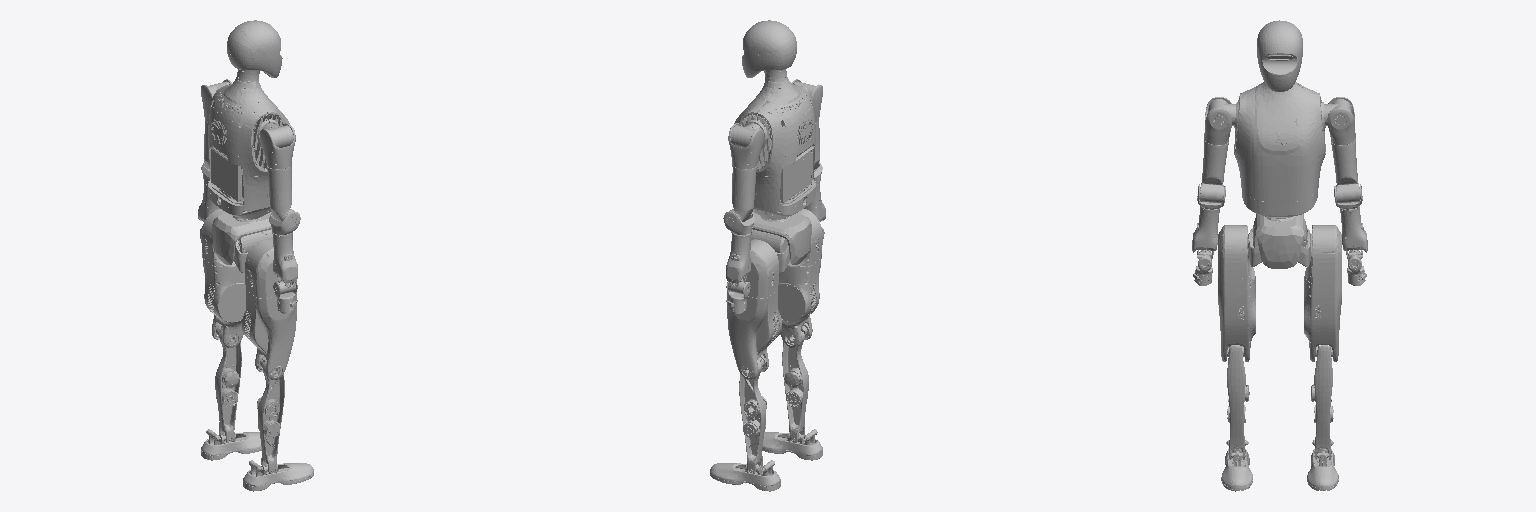
--- Render facts (derived) ---
Views: 3 orthographic renders of the robot side by side, from view 1: azimuth 30°, elevation 25°; view 2: azimuth 150°, elevation 25°; view 3: azimuth 270°, elevation 25°.
Robot: tiangong2pro_urdf — 37 links, 36 joints (30 revolute, 6 fixed); root link pelvis; default pose: every joint at zero.
Links seen in each view (by area): view 1: body_yaw_link, hip_yaw_r_link, hip_yaw_l_link, head_roll_link, pelvis, knee_pitch_r_link, knee_pitch_l_link, hip_pitch_r_link, ankle_roll_r_link, ankle_roll_l_link, shoulder_yaw_r_link, elbow_yaw_r_link (+2 smaller); view 2: body_yaw_link, hip_yaw_l_link, hip_yaw_r_link, head_roll_link, pelvis, knee_pitch_r_link, knee_pitch_l_link, hip_pitch_l_link, ankle_roll_l_link, ankle_roll_r_link, shoulder_yaw_l_link, elbow_yaw_l_link (+2 smaller); view 3: body_yaw_link, head_roll_link, hip_yaw_r_link, hip_yaw_l_link, pelvis, knee_pitch_l_link, knee_pitch_r_link, hip_pitch_l_link, hip_pitch_r_link, shoulder_yaw_l_link, shoulder_yaw_r_link, ankle_roll_r_link (+5 smaller).
Boxes of the visible links, box(x1,y1,x2,y2) form: body_yaw_link: box(208, 78, 291, 219); hip_yaw_r_link: box(242, 290, 296, 379); hip_yaw_l_link: box(203, 259, 245, 347); head_roll_link: box(227, 20, 282, 77); pelvis: box(212, 212, 272, 264); knee_pitch_r_link: box(257, 358, 284, 473); knee_pitch_l_link: box(215, 326, 241, 442); hip_pitch_r_link: box(245, 240, 296, 298); ankle_roll_r_link: box(243, 460, 313, 491); ankle_roll_l_link: box(201, 429, 261, 460); shoulder_yaw_r_link: box(267, 166, 293, 221); elbow_yaw_r_link: box(272, 232, 297, 287); body_yaw_link: box(732, 79, 815, 219); hip_yaw_l_link: box(727, 290, 781, 379); hip_yaw_r_link: box(778, 258, 821, 347); head_roll_link: box(742, 20, 796, 77); pelvis: box(751, 212, 811, 264); knee_pitch_r_link: box(782, 326, 808, 442); knee_pitch_l_link: box(739, 358, 766, 473); hip_pitch_l_link: box(743, 239, 778, 298); ankle_roll_l_link: box(710, 460, 780, 491); ankle_roll_r_link: box(762, 429, 822, 460); shoulder_yaw_l_link: box(730, 166, 756, 221); elbow_yaw_l_link: box(726, 232, 751, 287); body_yaw_link: box(1234, 82, 1325, 218); head_roll_link: box(1257, 20, 1302, 91); hip_yaw_r_link: box(1218, 271, 1255, 361); hip_yaw_l_link: box(1304, 271, 1341, 361); pelvis: box(1253, 214, 1306, 268); knee_pitch_l_link: box(1311, 345, 1333, 459); knee_pitch_r_link: box(1227, 345, 1249, 459); hip_pitch_l_link: box(1306, 225, 1341, 283); hip_pitch_r_link: box(1218, 225, 1253, 283); shoulder_yaw_l_link: box(1331, 139, 1360, 202); shoulder_yaw_r_link: box(1199, 140, 1228, 202); ankle_roll_r_link: box(1221, 440, 1252, 491).
Size in the robot's own frame: 0.3025 by 0.6138 by 1.73 metres.
Meshes: 37 distinct files referenced, 37 mesh visuals loaded (37 binary STL).

robot.urdf — tiangong2pro_urdf:
<?xml version='1.0' encoding='utf-8'?>
<robot name="tiangong2pro_urdf">
  <link name="pelvis">
    <inertial>
      <origin xyz="-0.000979 0.00068 -0.076922" rpy="0 0 0" />
      <mass value="5.639" />
      <inertia ixx="0.018304" ixy="-0.004328" ixz="6.1e-05" iyy="0.023292" iyz="6e-05" izz="0.024244" />
    </inertial>
    <visual>
      <origin xyz="0 0 0" rpy="0 0 0" />
      <geometry>
        <mesh filename="package://tiangong2pro_urdf/meshes/pelvis.STL" />
      </geometry>
      <material name="">
        <color rgba="0.752941176470588 0.752941176470588 0.752941176470588 1" />
      </material>
    </visual>
    <collision>
      <origin xyz="0 0 0" rpy="0 0 0" />
      <geometry>
        <mesh filename="package://tiangong2pro_urdf/meshes/pelvis.STL" />
      </geometry>
    </collision>
  </link>
  <link name="hip_roll_l_link">
    <inertial>
      <origin xyz="-0.001848 0.055849 -0.036017" rpy="0 0 0" />
      <mass value="0.672983" />
      <inertia ixx="0.00102" ixy="-7e-05" ixz="3.8e-05" iyy="0.003221" iyz="0.000281" izz="0.003272" />
    </inertial>
    <visual>
      <origin xyz="0 0 0" rpy="0 0 0" />
      <geometry>
        <mesh filename="package://tiangong2pro_urdf/meshes/hip_roll_l_link.STL" />
      </geometry>
      <material name="">
        <color rgba="0.752941176470588 0.752941176470588 0.752941176470588 1" />
      </material>
    </visual>
    <collision>
      <origin xyz="0 0 0" rpy="0 0 0" />
      <geometry>
        <mesh filename="package://tiangong2pro_urdf/meshes/hip_roll_l_link.STL" />
      </geometry>
    </collision>
  </link>
  <joint name="hip_roll_l_joint" type="revolute">
    <origin xyz="0 0.028 -0.0857" rpy="0 0 0" />
    <parent link="pelvis" />
    <child link="hip_roll_l_link" />
    <axis xyz="1 0 0" />
    <limit lower="-0.7853981633974483" upper="0.7853981633974483" effort="235.0" velocity="16.755160819145562" />
  </joint>
  <link name="hip_pitch_l_link">
    <inertial>
      <origin xyz="0.001081 -8.8e-05 -0.013133" rpy="0 0 0" />
      <mass value="3.951912" />
      <inertia ixx="0.010841" ixy="-2.7e-05" ixz="0.000234" iyy="0.015597" iyz="0.000123" izz="0.00934" />
    </inertial>
    <visual>
      <origin xyz="0 0 0" rpy="0 0 0" />
      <geometry>
        <mesh filename="package://tiangong2pro_urdf/meshes/hip_pitch_l_link.STL" />
      </geometry>
      <material name="">
        <color rgba="0.752941176470588 0.752941176470588 0.752941176470588 1" />
      </material>
    </visual>
    <collision>
      <origin xyz="0 0 0" rpy="0 0 0" />
      <geometry>
        <mesh filename="package://tiangong2pro_urdf/meshes/hip_pitch_l_link.STL" />
      </geometry>
    </collision>
  </link>
  <joint name="hip_pitch_l_joint" type="revolute">
    <origin xyz="0 0.122 -0.046" rpy="0 0 0" />
    <parent link="hip_roll_l_link" />
    <child link="hip_pitch_l_link" />
    <axis xyz="0 1 0" />
    <limit lower="-2.792526803190927" upper="2.0943951023931953" effort="330.0" velocity="15.707963267948966" />
  </joint>
  <link name="hip_yaw_l_link">
    <inertial>
      <origin xyz="0.004102 -0.006542 -0.121068" rpy="0 0 0" />
      <mass value="6.670795" />
      <inertia ixx="0.049573" ixy="-0.000228" ixz="-4.4e-05" iyy="0.053307" iyz="-0.001401" izz="0.017924" />
    </inertial>
    <visual>
      <origin xyz="0 0 0" rpy="0 0 0" />
      <geometry>
        <mesh filename="package://tiangong2pro_urdf/meshes/hip_yaw_l_link.STL" />
      </geometry>
      <material name="">
        <color rgba="0.752941176470588 0.752941176470588 0.752941176470588 1" />
      </material>
    </visual>
    <collision>
      <origin xyz="0 0 0" rpy="0 0 0" />
      <geometry>
        <mesh filename="package://tiangong2pro_urdf/meshes/hip_yaw_l_link.STL" />
      </geometry>
    </collision>
  </link>
  <joint name="hip_yaw_l_joint" type="revolute">
    <origin xyz="0 -0.00015 -0.0987" rpy="0 0 0" />
    <parent link="hip_pitch_l_link" />
    <child link="hip_yaw_l_link" />
    <axis xyz="0 0 1" />
    <limit lower="-1.0471975511965976" upper="1.0471975511965976" effort="235.0" velocity="16.755160819145562" />
  </joint>
  <link name="knee_pitch_l_link">
    <inertial>
      <origin xyz="0.00018 0.001915 -0.178653" rpy="0 0 0" />
      <mass value="2.312685" />
      <inertia ixx="0.030244" ixy="-1e-05" ixz="-0.002398" iyy="0.03091" iyz="-0.000689" izz="0.002922" />
    </inertial>
    <visual>
      <origin xyz="0 0 0" rpy="0 0 0" />
      <geometry>
        <mesh filename="package://tiangong2pro_urdf/meshes/knee_pitch_l_link.STL" />
      </geometry>
      <material name="">
        <color rgba="0.752941176470588 0.752941176470588 0.752941176470588 1" />
      </material>
    </visual>
    <collision>
      <origin xyz="0 0 0" rpy="0 0 0" />
      <geometry>
        <mesh filename="package://tiangong2pro_urdf/meshes/knee_pitch_l_link.STL" />
      </geometry>
    </collision>
  </link>
  <joint name="knee_pitch_l_joint" type="revolute">
    <origin xyz="0 0.00010715 -0.3013" rpy="0 0 0" />
    <parent link="hip_yaw_l_link" />
    <child link="knee_pitch_l_link" />
    <axis xyz="0 1 0" />
    <limit lower="0.0" upper="2.3911010752322315" effort="330.0" velocity="15.707963267948966" />
  </joint>
  <link name="ankle_pitch_l_link">
    <inertial>
      <origin xyz="0.0 0.0 0.0" rpy="0 0 0" />
      <mass value="0.111609" />
      <inertia ixx="1.8e-05" ixy="0.0" ixz="0.0" iyy="1.8e-05" iyz="0.0" izz="3.2e-05" />
    </inertial>
    <visual>
      <origin xyz="0 0 0" rpy="0 0 0" />
      <geometry>
        <mesh filename="package://tiangong2pro_urdf/meshes/ankle_pitch_l_link.STL" />
      </geometry>
      <material name="">
        <color rgba="0.752941176470588 0.752941176470588 0.752941176470588 1" />
      </material>
    </visual>
    <collision>
      <origin xyz="0 0 0" rpy="0 0 0" />
      <geometry>
        <mesh filename="package://tiangong2pro_urdf/meshes/ankle_pitch_l_link.STL" />
      </geometry>
    </collision>
  </link>
  <joint name="ankle_pitch_l_joint" type="revolute">
    <origin xyz="0 0 -0.4" rpy="0 0 0" />
    <parent link="knee_pitch_l_link" />
    <child link="ankle_pitch_l_link" />
    <axis xyz="0 1 0" />
    <limit lower="-1.2217304763960306" upper="0.5235987755982988" effort="55.0" velocity="14.137166941154069" />
  </joint>
  <link name="ankle_roll_l_link">
    <inertial>
      <origin xyz="0.021235 0.0 -0.032883" rpy="0 0 0" />
      <mass value="1.017381" />
      <inertia ixx="0.001028" ixy="0.0" ixz="0.000622" iyy="0.006055" iyz="0.0" izz="0.00624" />
    </inertial>
    <visual>
      <origin xyz="0 0 0" rpy="0 0 0" />
      <geometry>
        <mesh filename="package://tiangong2pro_urdf/meshes/ankle_roll_l_link.STL" />
      </geometry>
      <material name="">
        <color rgba="0.752941176470588 0.752941176470588 0.752941176470588 1" />
      </material>
    </visual>
    <collision>
      <origin xyz="0 0 0" rpy="0 0 0" />
      <geometry>
        <mesh filename="package://tiangong2pro_urdf/meshes/ankle_roll_l_link.STL" />
      </geometry>
    </collision>
  </link>
  <joint name="ankle_roll_l_joint" type="revolute">
    <origin xyz="0 0 0" rpy="0 0 0" />
    <parent link="ankle_pitch_l_link" />
    <child link="ankle_roll_l_link" />
    <axis xyz="1 0 0" />
    <limit lower="-0.5235987755982988" upper="0.5235987755982988" effort="55.0" velocity="14.137166941154069" />
  </joint>
  <link name="hip_roll_r_link">
    <inertial>
      <origin xyz="-0.001848 -0.055849 -0.036017" rpy="0 0 0" />
      <mass value="0.672983" />
      <inertia ixx="0.00102" ixy="7e-05" ixz="3.8e-05" iyy="0.003221" iyz="-0.000281" izz="0.003272" />
    </inertial>
    <visual>
      <origin xyz="0 0 0" rpy="0 0 0" />
      <geometry>
        <mesh filename="package://tiangong2pro_urdf/meshes/hip_roll_r_link.STL" />
      </geometry>
      <material name="">
        <color rgba="0.752941176470588 0.752941176470588 0.752941176470588 1" />
      </material>
    </visual>
    <collision>
      <origin xyz="0 0 0" rpy="0 0 0" />
      <geometry>
        <mesh filename="package://tiangong2pro_urdf/meshes/hip_roll_r_link.STL" />
      </geometry>
    </collision>
  </link>
  <joint name="hip_roll_r_joint" type="revolute">
    <origin xyz="0 -0.028 -0.0857" rpy="0 0 0" />
    <parent link="pelvis" />
    <child link="hip_roll_r_link" />
    <axis xyz="1 0 0" />
    <limit lower="-0.7853981633974483" upper="0.7853981633974483" effort="235.0" velocity="16.755160819145562" />
  </joint>
  <link name="hip_pitch_r_link">
    <inertial>
      <origin xyz="0.001081 8.8e-05 -0.013133" rpy="0 0 0" />
      <mass value="3.951912" />
      <inertia ixx="0.010841" ixy="2.7e-05" ixz="0.000234" iyy="0.015597" iyz="-0.000123" izz="0.00934" />
    </inertial>
    <visual>
      <origin xyz="0 0 0" rpy="0 0 0" />
      <geometry>
        <mesh filename="package://tiangong2pro_urdf/meshes/hip_pitch_r_link.STL" />
      </geometry>
      <material name="">
        <color rgba="0.752941176470588 0.752941176470588 0.752941176470588 1" />
      </material>
    </visual>
    <collision>
      <origin xyz="0 0 0" rpy="0 0 0" />
      <geometry>
        <mesh filename="package://tiangong2pro_urdf/meshes/hip_pitch_r_link.STL" />
      </geometry>
    </collision>
  </link>
  <joint name="hip_pitch_r_joint" type="revolute">
    <origin xyz="0 -0.122 -0.046" rpy="0 0 0" />
    <parent link="hip_roll_r_link" />
    <child link="hip_pitch_r_link" />
    <axis xyz="0 1 0" />
    <limit lower="-2.792526803190927" upper="2.0943951023931953" effort="330.0" velocity="15.707963267948966" />
  </joint>
  <link name="hip_yaw_r_link">
    <inertial>
      <origin xyz="0.004102 0.006542 -0.121068" rpy="0 0 0" />
      <mass value="6.670795" />
      <inertia ixx="0.049573" ixy="0.000228" ixz="-4.4e-05" iyy="0.053307" iyz="0.001401" izz="0.017924" />
    </inertial>
    <visual>
      <origin xyz="0 0 0" rpy="0 0 0" />
      <geometry>
        <mesh filename="package://tiangong2pro_urdf/meshes/hip_yaw_r_link.STL" />
      </geometry>
      <material name="">
        <color rgba="0.752941176470588 0.752941176470588 0.752941176470588 1" />
      </material>
    </visual>
    <collision>
      <origin xyz="0 0 0" rpy="0 0 0" />
      <geometry>
        <mesh filename="package://tiangong2pro_urdf/meshes/hip_yaw_r_link.STL" />
      </geometry>
    </collision>
  </link>
  <joint name="hip_yaw_r_joint" type="revolute">
    <origin xyz="0 0 -0.0987" rpy="0 0 0" />
    <parent link="hip_pitch_r_link" />
    <child link="hip_yaw_r_link" />
    <axis xyz="0 0 1" />
    <limit lower="-1.0471975511965976" upper="1.0471975511965976" effort="235.0" velocity="16.755160819145562" />
  </joint>
  <link name="knee_pitch_r_link">
    <inertial>
      <origin xyz="0.00018 -0.001915 -0.178653" rpy="0 0 0" />
      <mass value="2.312685" />
      <inertia ixx="0.030244" ixy="1e-05" ixz="-0.002398" iyy="0.03091" iyz="0.000689" izz="0.002922" />
    </inertial>
    <visual>
      <origin xyz="0 0 0" rpy="0 0 0" />
      <geometry>
        <mesh filename="package://tiangong2pro_urdf/meshes/knee_pitch_r_link.STL" />
      </geometry>
      <material name="">
        <color rgba="0.752941176470588 0.752941176470588 0.752941176470588 1" />
      </material>
    </visual>
    <collision>
      <origin xyz="0 0 0" rpy="0 0 0" />
      <geometry>
        <mesh filename="package://tiangong2pro_urdf/meshes/knee_pitch_r_link.STL" />
      </geometry>
    </collision>
  </link>
  <joint name="knee_pitch_r_joint" type="revolute">
    <origin xyz="0 9.9938E-05 -0.3013" rpy="0 0 0" />
    <parent link="hip_yaw_r_link" />
    <child link="knee_pitch_r_link" />
    <axis xyz="0 1 0" />
    <limit lower="0.0" upper="2.3911010752322315" effort="330.0" velocity="15.707963267948966" />
  </joint>
  <link name="ankle_pitch_r_link">
    <inertial>
      <origin xyz="0.0 0.0 0.0" rpy="0 0 0" />
      <mass value="0.111609" />
      <inertia ixx="1.8e-05" ixy="0.0" ixz="0.0" iyy="1.8e-05" iyz="0.0" izz="3.2e-05" />
    </inertial>
    <visual>
      <origin xyz="0 0 0" rpy="0 0 0" />
      <geometry>
        <mesh filename="package://tiangong2pro_urdf/meshes/ankle_pitch_r_link.STL" />
      </geometry>
      <material name="">
        <color rgba="0.752941176470588 0.752941176470588 0.752941176470588 1" />
      </material>
    </visual>
    <collision>
      <origin xyz="0 0 0" rpy="0 0 0" />
      <geometry>
        <mesh filename="package://tiangong2pro_urdf/meshes/ankle_pitch_r_link.STL" />
      </geometry>
    </collision>
  </link>
  <joint name="ankle_pitch_r_joint" type="revolute">
    <origin xyz="0 0.00099989 -0.4" rpy="0 0 0" />
    <parent link="knee_pitch_r_link" />
    <child link="ankle_pitch_r_link" />
    <axis xyz="0 1 0" />
    <limit lower="-1.2217304763960306" upper="0.5235987755982988" effort="55.0" velocity="14.137166941154069" />
  </joint>
  <link name="ankle_roll_r_link">
    <inertial>
      <origin xyz="0.021235 0.0 -0.032883" rpy="0 0 0" />
      <mass value="1.017381" />
      <inertia ixx="0.001028" ixy="0.0" ixz="0.000622" iyy="0.006055" iyz="0.0" izz="0.00624" />
    </inertial>
    <visual>
      <origin xyz="0 0 0" rpy="0 0 0" />
      <geometry>
        <mesh filename="package://tiangong2pro_urdf/meshes/ankle_roll_r_link.STL" />
      </geometry>
      <material name="">
        <color rgba="0.752941176470588 0.752941176470588 0.752941176470588 1" />
      </material>
    </visual>
    <collision>
      <origin xyz="0 0 0" rpy="0 0 0" />
      <geometry>
        <mesh filename="package://tiangong2pro_urdf/meshes/ankle_roll_r_link.STL" />
      </geometry>
    </collision>
  </link>
  <joint name="ankle_roll_r_joint" type="revolute">
    <origin xyz="0 0 0" rpy="0 0 0" />
    <parent link="ankle_pitch_r_link" />
    <child link="ankle_roll_r_link" />
    <axis xyz="1 0 0" />
    <limit lower="-0.5235987755982988" upper="0.5235987755982988" effort="55.0" velocity="14.137166941154069" />
  </joint>
  <link name="body_yaw_link">
    <inertial>
      <origin xyz="-0.000568 0.00056 0.231488" rpy="0 0 0" />
      <mass value="22.0" />
      <inertia ixx="0.429034" ixy="0.000293" ixz="-0.003462" iyy="0.379055" iyz="0.000237" izz="0.177142" />
    </inertial>
    <visual>
      <origin xyz="0 0 0" rpy="0 0 0" />
      <geometry>
        <mesh filename="package://tiangong2pro_urdf/meshes/body_yaw_link.STL" />
      </geometry>
      <material name="">
        <color rgba="0.752941176470588 0.752941176470588 0.752941176470588 1" />
      </material>
    </visual>
    <collision>
      <origin xyz="0 0 0" rpy="0 0 0" />
      <geometry>
        <mesh filename="package://tiangong2pro_urdf/meshes/body_yaw_link.STL" />
      </geometry>
    </collision>
  </link>
  <joint name="body_yaw_joint" type="revolute">
    <origin xyz="0 0 0" rpy="0 0 0" />
    <parent link="pelvis" />
    <child link="body_yaw_link" />
    <axis xyz="0 0 1" />
    <limit lower="-2.9670597283903604" upper="2.9670597283903604" effort="91.0" velocity="9.215338450530059" />
  </joint>
  <link name="head_yaw_link">
    <inertial>
      <origin xyz="-0.000202 0.000454 0.007248" rpy="0 0 0" />
      <mass value="0.088397" />
      <inertia ixx="9.5e-05" ixy="-1e-06" ixz="-3e-06" iyy="7.6e-05" iyz="-3e-06" izz="0.000106" />
    </inertial>
    <visual>
      <origin xyz="0 0 0" rpy="0 0 0" />
      <geometry>
        <mesh filename="package://tiangong2pro_urdf/meshes/head_yaw_link.STL" />
      </geometry>
      <material name="">
        <color rgba="0.752941176470588 0.752941176470588 0.752941176470588 1" />
      </material>
    </visual>
    <collision>
      <origin xyz="0 0 0" rpy="0 0 0" />
      <geometry>
        <mesh filename="package://tiangong2pro_urdf/meshes/head_yaw_link.STL" />
      </geometry>
    </collision>
  </link>
  <joint name="head_yaw_joint" type="revolute">
    <origin xyz="-0.002 0 0.56508" rpy="0 0 0" />
    <parent link="body_yaw_link" />
    <child link="head_yaw_link" />
    <axis xyz="0 0 1" />
    <limit lower="-1.5707963267948966" upper="1.5707963267948966" effort="6.3" velocity="7.5398223686155035" />
  </joint>
  <link name="head_pitch_link">
    <inertial>
      <origin xyz="-0.000274 0.004118 2.3e-05" rpy="0 0 0" />
      <mass value="0.23046" />
      <inertia ixx="9.2e-05" ixy="1e-06" ixz="-1e-06" iyy="5.4e-05" iyz="0.0" izz="9.5e-05" />
    </inertial>
    <visual>
      <origin xyz="0 0 0" rpy="0 0 0" />
      <geometry>
        <mesh filename="package://tiangong2pro_urdf/meshes/head_pitch_link.STL" />
      </geometry>
      <material name="">
        <color rgba="0.752941176470588 0.752941176470588 0.752941176470588 1" />
      </material>
    </visual>
    <collision>
      <origin xyz="0 0 0" rpy="0 0 0" />
      <geometry>
        <mesh filename="package://tiangong2pro_urdf/meshes/head_pitch_link.STL" />
      </geometry>
    </collision>
  </link>
  <joint name="head_pitch_joint" type="revolute">
    <origin xyz="0.01455 0 0.0304" rpy="0 0.2618 0" />
    <parent link="head_yaw_link" />
    <child link="head_pitch_link" />
    <axis xyz="0 1 0" />
    <limit lower="-0.4363323129985824" upper="0.4363323129985824" effort="6.3" velocity="7.5398223686155035" />
  </joint>
  <link name="head_roll_link">
    <inertial>
      <origin xyz="0.022467 0.001208 0.053952" rpy="0 0 0" />
      <mass value="0.844627" />
      <inertia ixx="0.00235" ixy="3.8e-05" ixz="0.000436" iyy="0.003365" iyz="6e-06" izz="0.002875" />
    </inertial>
    <visual>
      <origin xyz="0 0 0" rpy="0 0 0" />
      <geometry>
        <mesh filename="package://tiangong2pro_urdf/meshes/head_roll_link.STL" />
      </geometry>
      <material name="">
        <color rgba="0.752941176470588 0.752941176470588 0.752941176470588 1" />
      </material>
    </visual>
    <collision>
      <origin xyz="0 0 0" rpy="0 0 0" />
      <geometry>
        <mesh filename="package://tiangong2pro_urdf/meshes/head_roll_link.STL" />
      </geometry>
    </collision>
  </link>
  <joint name="head_roll_joint" type="revolute">
    <origin xyz="0 0 0" rpy="0 0 0" />
    <parent link="head_pitch_link" />
    <child link="head_roll_link" />
    <axis xyz="1 0 0" />
    <limit lower="-0.4537856055185257" upper="0.4537856055185257" effort="6.3" velocity="7.5398223686155035" />
  </joint>
  <link name="camera_head_link">
    <inertial>
      <origin xyz="0.010986 -0.000307 -0.016475" rpy="0 0 0" />
      <mass value="0.1" />
      <inertia ixx="1.6e-05" ixy="0.0" ixz="0.0" iyy="8e-05" iyz="0.0" izz="7.7e-05" />
    </inertial>
    <visual>
      <origin xyz="0 0 0" rpy="0 0 0" />
      <geometry>
        <mesh filename="package://tiangong2pro_urdf/meshes/camera_head_link.STL" />
      </geometry>
      <material name="">
        <color rgba="0.752941176470588 0.752941176470588 0.752941176470588 1" />
      </material>
    </visual>
    <collision>
      <origin xyz="0 0 0" rpy="0 0 0" />
      <geometry>
        <mesh filename="package://tiangong2pro_urdf/meshes/camera_head_link.STL" />
      </geometry>
    </collision>
  </link>
  <joint name="camera_head_joint" type="fixed">
    <origin xyz="0.075191 0.010935 0.074436" rpy="-1.8326 0 -1.5708" />
    <parent link="head_roll_link" />
    <child link="camera_head_link" />
    <axis xyz="0 0 0" />
  </joint>
  <link name="shoulder_pitch_l_link">
    <inertial>
      <origin xyz="0.007494 0.064184 -2e-05" rpy="0 0 0" />
      <mass value="1.032698" />
      <inertia ixx="0.001025" ixy="-2.7e-05" ixz="-1e-06" iyy="0.001078" iyz="0.0" izz="0.001247" />
    </inertial>
    <visual>
      <origin xyz="0 0 0" rpy="0 0 0" />
      <geometry>
        <mesh filename="package://tiangong2pro_urdf/meshes/shoulder_pitch_l_link.STL" />
      </geometry>
      <material name="">
        <color rgba="0.752941176470588 0.752941176470588 0.752941176470588 1" />
      </material>
    </visual>
    <collision>
      <origin xyz="0 0 0" rpy="0 0 0" />
      <geometry>
        <mesh filename="package://tiangong2pro_urdf/meshes/shoulder_pitch_l_link.STL" />
      </geometry>
    </collision>
  </link>
  <joint name="shoulder_pitch_l_joint" type="revolute">
    <origin xyz="0 0.1444 0.37712" rpy="0.087266 0 0" />
    <parent link="body_yaw_link" />
    <child link="shoulder_pitch_l_link" />
    <axis xyz="0 1 0" />
    <limit lower="-2.9670597283903604" upper="2.9670597283903604" effort="91.0" velocity="9.215338450530059" />
  </joint>
  <link name="shoulder_roll_l_link">
    <inertial>
      <origin xyz="0.002389 0.002259 -0.048236" rpy="0 0 0" />
      <mass value="0.440997" />
      <inertia ixx="0.001001" ixy="-4e-06" ixz="-2.5e-05" iyy="0.001313" iyz="-1.4e-05" izz="0.000911" />
    </inertial>
    <visual>
      <origin xyz="0 0 0" rpy="0 0 0" />
      <geometry>
        <mesh filename="package://tiangong2pro_urdf/meshes/shoulder_roll_l_link.STL" />
      </geometry>
      <material name="">
        <color rgba="0.752941176470588 0.752941176470588 0.752941176470588 1" />
      </material>
    </visual>
    <collision>
      <origin xyz="0 0 0" rpy="0 0 0" />
      <geometry>
        <mesh filename="package://tiangong2pro_urdf/meshes/shoulder_roll_l_link.STL" />
      </geometry>
    </collision>
  </link>
  <joint name="shoulder_roll_l_joint" type="revolute">
    <origin xyz="0 0.068 0" rpy="0 0 0" />
    <parent link="shoulder_pitch_l_link" />
    <child link="shoulder_roll_l_link" />
    <axis xyz="1 0 0" />
    <limit lower="-0.2618" upper="2.6180" effort="95.0" velocity="3.979350694547071" />
  </joint>
  <link name="shoulder_yaw_l_link">
    <inertial>
      <origin xyz="0.008319 0.002686 -0.112525" rpy="0 0 0" />
      <mass value="1.365033" />
      <inertia ixx="0.009637" ixy="-5.7e-05" ixz="0.00095" iyy="0.0096" iyz="0.000339" izz="0.001331" />
    </inertial>
    <visual>
      <origin xyz="0 0 0" rpy="0 0 0" />
      <geometry>
        <mesh filename="package://tiangong2pro_urdf/meshes/shoulder_yaw_l_link.STL" />
      </geometry>
      <material name="">
        <color rgba="0.752941176470588 0.752941176470588 0.752941176470588 1" />
      </material>
    </visual>
    <collision>
      <origin xyz="0 0 0" rpy="0 0 0" />
      <geometry>
        <mesh filename="package://tiangong2pro_urdf/meshes/shoulder_yaw_l_link.STL" />
      </geometry>
    </collision>
  </link>
  <joint name="shoulder_yaw_l_joint" type="revolute">
    <origin xyz="0 0 -0.1025" rpy="0 0 0" />
    <parent link="shoulder_roll_l_link" />
    <child link="shoulder_yaw_l_link" />
    <axis xyz="0 0 1" />
    <limit lower="-2.9670597283903604" upper="2.9670597283903604" effort="35.0" velocity="5.235987755982989" />
  </joint>
  <link name="elbow_pitch_l_link">
    <inertial>
      <origin xyz="-0.014694 -7.2e-05 -0.026081" rpy="0 0 0" />
      <mass value="0.246311" />
      <inertia ixx="0.000381" ixy="1e-06" ixz="-1.2e-05" iyy="0.000222" iyz="2e-06" izz="0.000401" />
    </inertial>
    <visual>
      <origin xyz="0 0 0" rpy="0 0 0" />
      <geometry>
        <mesh filename="package://tiangong2pro_urdf/meshes/elbow_pitch_l_link.STL" />
      </geometry>
      <material name="">
        <color rgba="0.752941176470588 0.752941176470588 0.752941176470588 1" />
      </material>
    </visual>
    <collision>
      <origin xyz="0 0 0" rpy="0 0 0" />
      <geometry>
        <mesh filename="package://tiangong2pro_urdf/meshes/elbow_pitch_l_link.STL" />
      </geometry>
    </collision>
  </link>
  <joint name="elbow_pitch_l_joint" type="revolute">
    <origin xyz="0.02 0 -0.1975" rpy="0 0 0" />
    <parent link="shoulder_yaw_l_link" />
    <child link="elbow_pitch_l_link" />
    <axis xyz="0 1 0" />
    <limit lower="-2.6179938779914944" upper="0.2617993877991494" effort="35.0" velocity="5.235987755982989" />
  </joint>
  <link name="elbow_yaw_l_link">
    <inertial>
      <origin xyz="0.000158 0.001503 -0.069535" rpy="0 0 0" />
      <mass value="0.986828" />
      <inertia ixx="0.003108" ixy="-1e-06" ixz="8e-06" iyy="0.003035" iyz="8.9e-05" izz="0.00058" />
    </inertial>
    <visual>
      <origin xyz="0 0 0" rpy="0 0 0" />
      <geometry>
        <mesh filename="package://tiangong2pro_urdf/meshes/elbow_yaw_l_link.STL" />
      </geometry>
      <material name="">
        <color rgba="0.752941176470588 0.752941176470588 0.752941176470588 1" />
      </material>
    </visual>
    <collision>
      <origin xyz="0 0 0" rpy="0 0 0" />
      <geometry>
        <mesh filename="package://tiangong2pro_urdf/meshes/elbow_yaw_l_link.STL" />
      </geometry>
    </collision>
  </link>
  <joint name="elbow_yaw_l_joint" type="revolute">
    <origin xyz="-0.02 0 -0.0543" rpy="0 0 0" />
    <parent link="elbow_pitch_l_link" />
    <child link="elbow_yaw_l_link" />
    <axis xyz="0 0 1" />
    <limit lower="-2.9670597283903604" upper="2.9670597283903604" effort="24.0" velocity="10.471975511965978" />
  </joint>
  <link name="wrist_pitch_l_link">
    <inertial>
      <origin xyz="0.005362 0.00064 -0.018812" rpy="0 0 0" />
      <mass value="0.262007" />
      <inertia ixx="7.1e-05" ixy="-3e-06" ixz="-2e-06" iyy="0.000112" iyz="-3e-06" izz="0.000111" />
    </inertial>
    <visual>
      <origin xyz="0 0 0" rpy="0 0 0" />
      <geometry>
        <mesh filename="package://tiangong2pro_urdf/meshes/wrist_pitch_l_link.STL" />
      </geometry>
      <material name="">
        <color rgba="0.752941176470588 0.752941176470588 0.752941176470588 1" />
      </material>
    </visual>
    <collision>
      <origin xyz="0 0 0" rpy="0 0 0" />
      <geometry>
        <mesh filename="package://tiangong2pro_urdf/meshes/wrist_pitch_l_link.STL" />
      </geometry>
    </collision>
  </link>
  <joint name="wrist_pitch_l_joint" type="revolute">
    <origin xyz="0 0 -0.1887" rpy="0 0 0" />
    <parent link="elbow_yaw_l_link" />
    <child link="wrist_pitch_l_link" />
    <axis xyz="0 1 0" />
    <limit lower="-0.7854" upper="1.1345" effort="6.3" velocity="7.5398223686155035" />
  </joint>
  <link name="wrist_roll_l_link">
    <inertial>
      <origin xyz="0.000801 8.4e-05 -0.029302" rpy="0 0 0" />
      <mass value="0.131751" />
      <inertia ixx="6.9e-05" ixy="0.0" ixz="-1e-06" iyy="0.000116" iyz="0.0" izz="0.00011" />
    </inertial>
    <visual>
      <origin xyz="0 0 0" rpy="0 0 0" />
      <geometry>
        <mesh filename="package://tiangong2pro_urdf/meshes/wrist_roll_l_link.STL" />
      </geometry>
      <material name="">
        <color rgba="0.752941176470588 0.752941176470588 0.752941176470588 1" />
      </material>
    </visual>
    <collision>
      <origin xyz="0 0 0" rpy="0 0 0" />
      <geometry>
        <mesh filename="package://tiangong2pro_urdf/meshes/wrist_roll_l_link.STL" />
      </geometry>
    </collision>
  </link>
  <joint name="wrist_roll_l_joint" type="revolute">
    <origin xyz="0 0 -0.02" rpy="0 0 0" />
    <parent link="wrist_pitch_l_link" />
    <child link="wrist_roll_l_link" />
    <axis xyz="1 0 0" />
    <limit lower="-1.6581" upper="1.3090" effort="6.3" velocity="7.5398223686155035" />
  </joint>
  <link name="left_tcp_link">
    <inertial>
      <origin xyz="0.000415 0.000651 0.017052" rpy="0 0 0" />
      <mass value="0.218186" />
      <inertia ixx="8.6e-05" ixy="-2e-06" ixz="-1e-06" iyy="8.4e-05" iyz="-1e-06" izz="0.000109" />
    </inertial>
    <visual>
      <origin xyz="0 0 0" rpy="0 0 0" />
      <geometry>
        <mesh filename="package://tiangong2pro_urdf/meshes/left_tcp_link.STL" />
      </geometry>
      <material name="">
        <color rgba="0.752941176470588 0.752941176470588 0.752941176470588 1" />
      </material>
    </visual>
    <collision>
      <origin xyz="0 0 0" rpy="0 0 0" />
      <geometry>
        <mesh filename="package://tiangong2pro_urdf/meshes/left_tcp_link.STL" />
      </geometry>
    </collision>
  </link>
  <joint name="left_tcp_joint" type="fixed">
    <origin xyz="0 0 -0.0848" rpy="0 0 0" />
    <parent link="wrist_roll_l_link" />
    <child link="left_tcp_link" />
    <axis xyz="0 0 0" />
  </joint>
  <link name="shoulder_pitch_r_link">
    <inertial>
      <origin xyz="0.007494 -0.064184 -2e-05" rpy="0 0 0" />
      <mass value="1.032698" />
      <inertia ixx="0.001025" ixy="2.7e-05" ixz="-1e-06" iyy="0.001078" iyz="0.0" izz="0.001247" />
    </inertial>
    <visual>
      <origin xyz="0 0 0" rpy="0 0 0" />
      <geometry>
        <mesh filename="package://tiangong2pro_urdf/meshes/shoulder_pitch_r_link.STL" />
      </geometry>
      <material name="">
        <color rgba="0.752941176470588 0.752941176470588 0.752941176470588 1" />
      </material>
    </visual>
    <collision>
      <origin xyz="0 0 0" rpy="0 0 0" />
      <geometry>
        <mesh filename="package://tiangong2pro_urdf/meshes/shoulder_pitch_r_link.STL" />
      </geometry>
    </collision>
  </link>
  <joint name="shoulder_pitch_r_joint" type="revolute">
    <origin xyz="0 -0.1444 0.37712" rpy="-0.087266 0 0" />
    <parent link="body_yaw_link" />
    <child link="shoulder_pitch_r_link" />
    <axis xyz="0 1 0" />
    <limit lower="-2.9670597283903604" upper="2.9670597283903604" effort="91.0" velocity="9.215338450530059" />
  </joint>
  <link name="shoulder_roll_r_link">
    <inertial>
      <origin xyz="0.002389 -0.002259 -0.048236" rpy="0 0 0" />
      <mass value="0.440997" />
      <inertia ixx="0.001001" ixy="4e-06" ixz="-2.5e-05" iyy="0.001313" iyz="1.4e-05" izz="0.000911" />
    </inertial>
    <visual>
      <origin xyz="0 0 0" rpy="0 0 0" />
      <geometry>
        <mesh filename="package://tiangong2pro_urdf/meshes/shoulder_roll_r_link.STL" />
      </geometry>
      <material name="">
        <color rgba="0.752941176470588 0.752941176470588 0.752941176470588 1" />
      </material>
    </visual>
    <collision>
      <origin xyz="0 0 0" rpy="0 0 0" />
      <geometry>
        <mesh filename="package://tiangong2pro_urdf/meshes/shoulder_roll_r_link.STL" />
      </geometry>
    </collision>
  </link>
  <joint name="shoulder_roll_r_joint" type="revolute">
    <origin xyz="0 -0.068 0" rpy="0 0 0" />
    <parent link="shoulder_pitch_r_link" />
    <child link="shoulder_roll_r_link" />
    <axis xyz="1 0 0" />
    <limit lower="-2.6180" upper="0.2618" effort="95.0" velocity="3.979350694547071" />
  </joint>
  <link name="shoulder_yaw_r_link">
    <inertial>
      <origin xyz="0.008319 -0.002686 -0.112525" rpy="0 0 0" />
      <mass value="1.365033" />
      <inertia ixx="0.009637" ixy="5.7e-05" ixz="0.00095" iyy="0.0096" iyz="-0.000339" izz="0.001331" />
    </inertial>
    <visual>
      <origin xyz="0 0 0" rpy="0 0 0" />
      <geometry>
        <mesh filename="package://tiangong2pro_urdf/meshes/shoulder_yaw_r_link.STL" />
      </geometry>
      <material name="">
        <color rgba="0.752941176470588 0.752941176470588 0.752941176470588 1" />
      </material>
    </visual>
    <collision>
      <origin xyz="0 0 0" rpy="0 0 0" />
      <geometry>
        <mesh filename="package://tiangong2pro_urdf/meshes/shoulder_yaw_r_link.STL" />
      </geometry>
    </collision>
  </link>
  <joint name="shoulder_yaw_r_joint" type="revolute">
    <origin xyz="0 0 -0.1025" rpy="0 0 0" />
    <parent link="shoulder_roll_r_link" />
    <child link="shoulder_yaw_r_link" />
    <axis xyz="0 0 1" />
    <limit lower="-2.9670597283903604" upper="2.9670597283903604" effort="35.0" velocity="5.235987755982989" />
  </joint>
  <link name="elbow_pitch_r_link">
    <inertial>
      <origin xyz="-0.014694 7.2e-05 -0.026081" rpy="0 0 0" />
      <mass value="0.246311" />
      <inertia ixx="0.000381" ixy="-1e-06" ixz="-1.2e-05" iyy="0.000222" iyz="-2e-06" izz="0.000401" />
    </inertial>
    <visual>
      <origin xyz="0 0 0" rpy="0 0 0" />
      <geometry>
        <mesh filename="package://tiangong2pro_urdf/meshes/elbow_pitch_r_link.STL" />
      </geometry>
      <material name="">
        <color rgba="0.752941176470588 0.752941176470588 0.752941176470588 1" />
      </material>
    </visual>
    <collision>
      <origin xyz="0 0 0" rpy="0 0 0" />
      <geometry>
        <mesh filename="package://tiangong2pro_urdf/meshes/elbow_pitch_r_link.STL" />
      </geometry>
    </collision>
  </link>
  <joint name="elbow_pitch_r_joint" type="revolute">
    <origin xyz="0.02 0 -0.1975" rpy="0 0 0" />
    <parent link="shoulder_yaw_r_link" />
    <child link="elbow_pitch_r_link" />
    <axis xyz="0 1 0" />
    <limit lower="-2.6179938779914944" upper="0.2617993877991494" effort="35.0" velocity="5.235987755982989" />
  </joint>
  <link name="elbow_yaw_r_link">
    <inertial>
      <origin xyz="0.000158 -0.001503 -0.069535" rpy="0 0 0" />
      <mass value="0.986828" />
      <inertia ixx="0.003108" ixy="1e-06" ixz="8e-06" iyy="0.003035" iyz="-8.9e-05" izz="0.00058" />
    </inertial>
    <visual>
      <origin xyz="0 0 0" rpy="0 0 0" />
      <geometry>
        <mesh filename="package://tiangong2pro_urdf/meshes/elbow_yaw_r_link.STL" />
      </geometry>
      <material name="">
        <color rgba="0.752941176470588 0.752941176470588 0.752941176470588 1" />
      </material>
    </visual>
    <collision>
      <origin xyz="0 0 0" rpy="0 0 0" />
      <geometry>
        <mesh filename="package://tiangong2pro_urdf/meshes/elbow_yaw_r_link.STL" />
      </geometry>
    </collision>
  </link>
  <joint name="elbow_yaw_r_joint" type="revolute">
    <origin xyz="-0.02 0 -0.0543" rpy="0 0 0" />
    <parent link="elbow_pitch_r_link" />
    <child link="elbow_yaw_r_link" />
    <axis xyz="0 0 1" />
    <limit lower="-2.9670597283903604" upper="2.9670597283903604" effort="24.0" velocity="10.471975511965978" />
  </joint>
  <link name="wrist_pitch_r_link">
    <inertial>
      <origin xyz="0.005362 -0.00064 -0.018812" rpy="0 0 0" />
      <mass value="0.262007" />
      <inertia ixx="7.1e-05" ixy="3e-06" ixz="-2e-06" iyy="0.000112" iyz="3e-06" izz="0.000111" />
    </inertial>
    <visual>
      <origin xyz="0 0 0" rpy="0 0 0" />
      <geometry>
        <mesh filename="package://tiangong2pro_urdf/meshes/wrist_pitch_r_link.STL" />
      </geometry>
      <material name="">
        <color rgba="0.752941176470588 0.752941176470588 0.752941176470588 1" />
      </material>
    </visual>
    <collision>
      <origin xyz="0 0 0" rpy="0 0 0" />
      <geometry>
        <mesh filename="package://tiangong2pro_urdf/meshes/wrist_pitch_r_link.STL" />
      </geometry>
    </collision>
  </link>
  <joint name="wrist_pitch_r_joint" type="revolute">
    <origin xyz="0 0 -0.1887" rpy="0 0 0" />
    <parent link="elbow_yaw_r_link" />
    <child link="wrist_pitch_r_link" />
    <axis xyz="0 1 0" />
    <limit lower="-0.7854" upper="1.0472" effort="6.3" velocity="7.5398223686155035" />
  </joint>
  <link name="wrist_roll_r_link">
    <inertial>
      <origin xyz="0.000801 -8.4e-05 -0.029302" rpy="0 0 0" />
      <mass value="0.131751" />
      <inertia ixx="6.9e-05" ixy="0.0" ixz="-1e-06" iyy="0.000116" iyz="0.0" izz="0.00011" />
    </inertial>
    <visual>
      <origin xyz="0 0 0" rpy="0 0 0" />
      <geometry>
        <mesh filename="package://tiangong2pro_urdf/meshes/wrist_roll_r_link.STL" />
      </geometry>
      <material name="">
        <color rgba="0.752941176470588 0.752941176470588 0.752941176470588 1" />
      </material>
    </visual>
    <collision>
      <origin xyz="0 0 0" rpy="0 0 0" />
      <geometry>
        <mesh filename="package://tiangong2pro_urdf/meshes/wrist_roll_r_link.STL" />
      </geometry>
    </collision>
  </link>
  <joint name="wrist_roll_r_joint" type="revolute">
    <origin xyz="0 0 -0.02" rpy="0 0 0" />
    <parent link="wrist_pitch_r_link" />
    <child link="wrist_roll_r_link" />
    <axis xyz="1 0 0" />
    <limit lower="-1.3090" upper="1.5708" effort="6.3" velocity="7.5398223686155035" />
  </joint>
  <link name="right_tcp_link">
    <inertial>
      <origin xyz="0.000415 -0.000651 0.017052" rpy="0 0 0" />
      <mass value="0.218186" />
      <inertia ixx="8.6e-05" ixy="2e-06" ixz="-1e-06" iyy="8.4e-05" iyz="1e-06" izz="0.000109" />
    </inertial>
    <visual>
      <origin xyz="0 0 0" rpy="0 0 0" />
      <geometry>
        <mesh filename="package://tiangong2pro_urdf/meshes/right_tcp_link.STL" />
      </geometry>
      <material name="">
        <color rgba="0.752941176470588 0.752941176470588 0.752941176470588 1" />
      </material>
    </visual>
    <collision>
      <origin xyz="0 0 0" rpy="0 0 0" />
      <geometry>
        <mesh filename="package://tiangong2pro_urdf/meshes/right_tcp_link.STL" />
      </geometry>
    </collision>
  </link>
  <joint name="right_tcp_joint" type="fixed">
    <origin xyz="0 0 -0.0848" rpy="0 0 0" />
    <parent link="wrist_roll_r_link" />
    <child link="right_tcp_link" />
    <axis xyz="0 0 0" />
  </joint>
  <link name="camera_body_front_link">
    <inertial>
      <origin xyz="0.023316 0.000241 -0.013373" rpy="0 0 0" />
      <mass value="0.1" />
      <inertia ixx="1.5e-05" ixy="1e-06" ixz="-1e-06" iyy="0.000127" iyz="0.0" izz="0.000127" />
    </inertial>
    <visual>
      <origin xyz="0 0 0" rpy="0 0 0" />
      <geometry>
        <mesh filename="package://tiangong2pro_urdf/meshes/camera_body_front_link.STL" />
      </geometry>
      <material name="">
        <color rgba="0.752941176470588 0.752941176470588 0.752941176470588 1" />
      </material>
    </visual>
    <collision>
      <origin xyz="0 0 0" rpy="0 0 0" />
      <geometry>
        <mesh filename="package://tiangong2pro_urdf/meshes/camera_body_front_link.STL" />
      </geometry>
    </collision>
  </link>
  <joint name="camera_body_front_joint" type="fixed">
    <origin xyz="0.090583 0.02375 0.039012" rpy="-2.1468 0 -1.5708" />
    <parent link="body_yaw_link" />
    <child link="camera_body_front_link" />
    <axis xyz="0 0 0" />
  </joint>
  <link name="camera_body_back_link">
    <inertial>
      <origin xyz="0.023316 0.000241 -0.013373" rpy="0 0 0" />
      <mass value="0.1" />
      <inertia ixx="1.5e-05" ixy="1e-06" ixz="-1e-06" iyy="0.000127" iyz="0.0" izz="0.000127" />
    </inertial>
    <visual>
      <origin xyz="0 0 0" rpy="0 0 0" />
      <geometry>
        <mesh filename="package://tiangong2pro_urdf/meshes/camera_body_back_link.STL" />
      </geometry>
      <material name="">
        <color rgba="0.752941176470588 0.752941176470588 0.752941176470588 1" />
      </material>
    </visual>
    <collision>
      <origin xyz="0 0 0" rpy="0 0 0" />
      <geometry>
        <mesh filename="package://tiangong2pro_urdf/meshes/camera_body_back_link.STL" />
      </geometry>
    </collision>
  </link>
  <joint name="camera_body_back_joint" type="fixed">
    <origin xyz="-0.11363 0.02375 0.2746" rpy="2.0071 0 -1.5708" />
    <parent link="body_yaw_link" />
    <child link="camera_body_back_link" />
    <axis xyz="0 0 0" />
  </joint>
  <link name="imu_link">
    <inertial>
      <origin xyz="-0.006331 -0.007725 -0.008045" rpy="0 0 0" />
      <mass value="0.02" />
      <inertia ixx="2e-06" ixy="0.0" ixz="0.0" iyy="3e-06" iyz="0.0" izz="4e-06" />
    </inertial>
    <visual>
      <origin xyz="0 0 0" rpy="0 0 0" />
      <geometry>
        <mesh filename="package://tiangong2pro_urdf/meshes/imu_link.STL" />
      </geometry>
      <material name="">
        <color rgba="0.752941176470588 0.752941176470588 0.752941176470588 1" />
      </material>
    </visual>
    <collision>
      <origin xyz="0 0 0" rpy="0 0 0" />
      <geometry>
        <mesh filename="package://tiangong2pro_urdf/meshes/imu_link.STL" />
      </geometry>
    </collision>
  </link>
  <joint name="imu_joint" type="fixed">
    <origin xyz="0.0499 -0.0358 -0.03194" rpy="0 0 0" />
    <parent link="pelvis" />
    <child link="imu_link" />
    <axis xyz="0 0 0" />
  </joint>
</robot>
